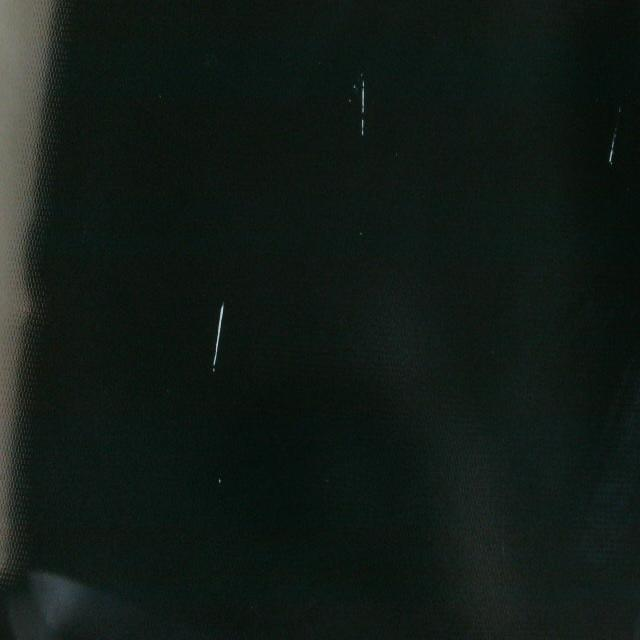scratch: (208, 287, 228, 380), (602, 97, 624, 173), (355, 72, 375, 148)
